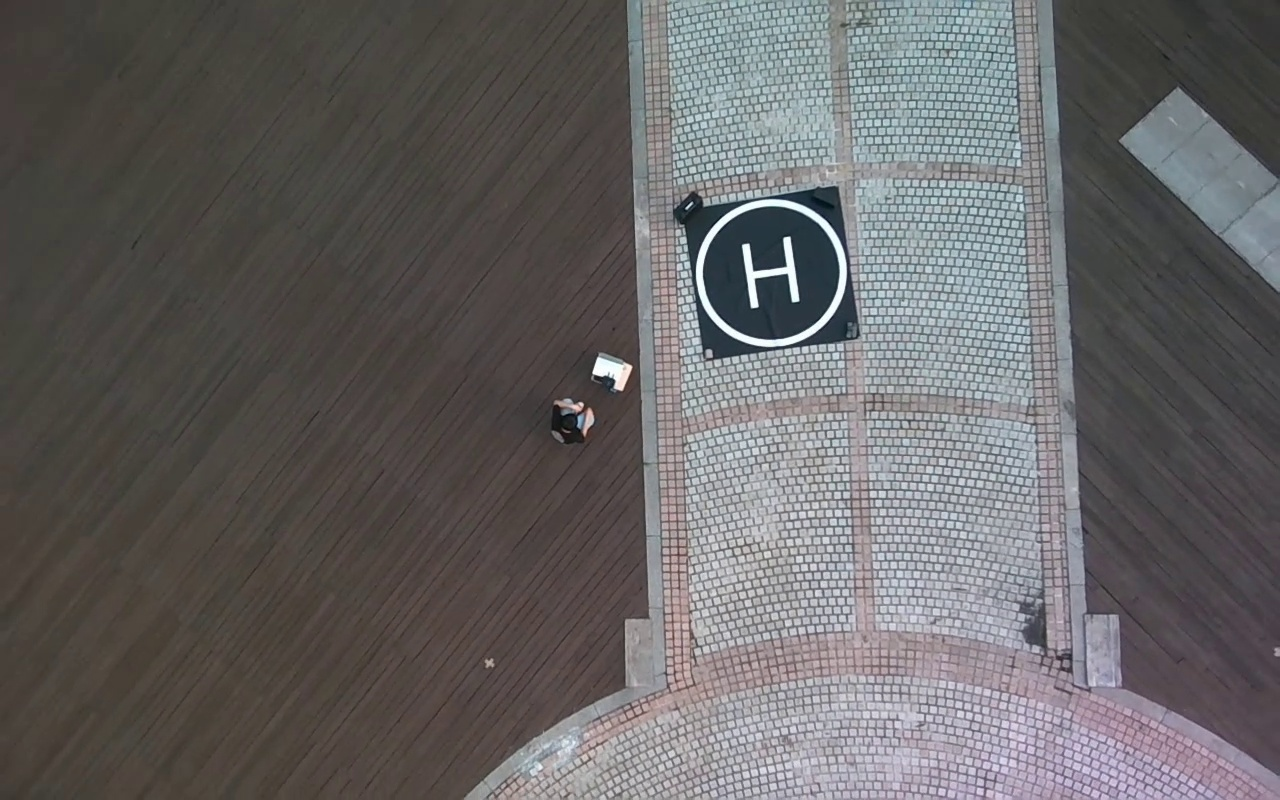H: (740, 235, 801, 308)
heliport: (696, 197, 847, 346)
